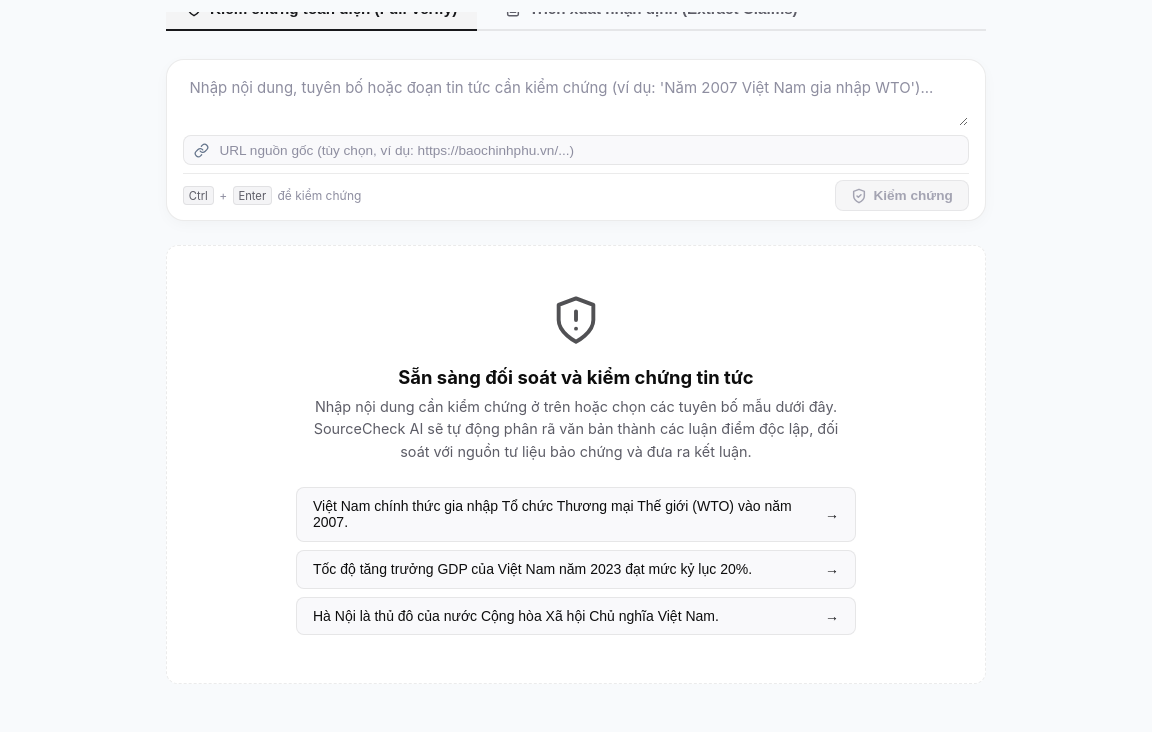
Test: Fact-Checking Feature (FE-04.1) › 3. Successful Verification Result Rendering › renders overall verdict, summary, metadata, and verified claims with evidence
(page scrolled)
Replace the text in the text box with test id "factcheck-textarea" with "Test verify" at point(576, 100), box [183,72,969,127]
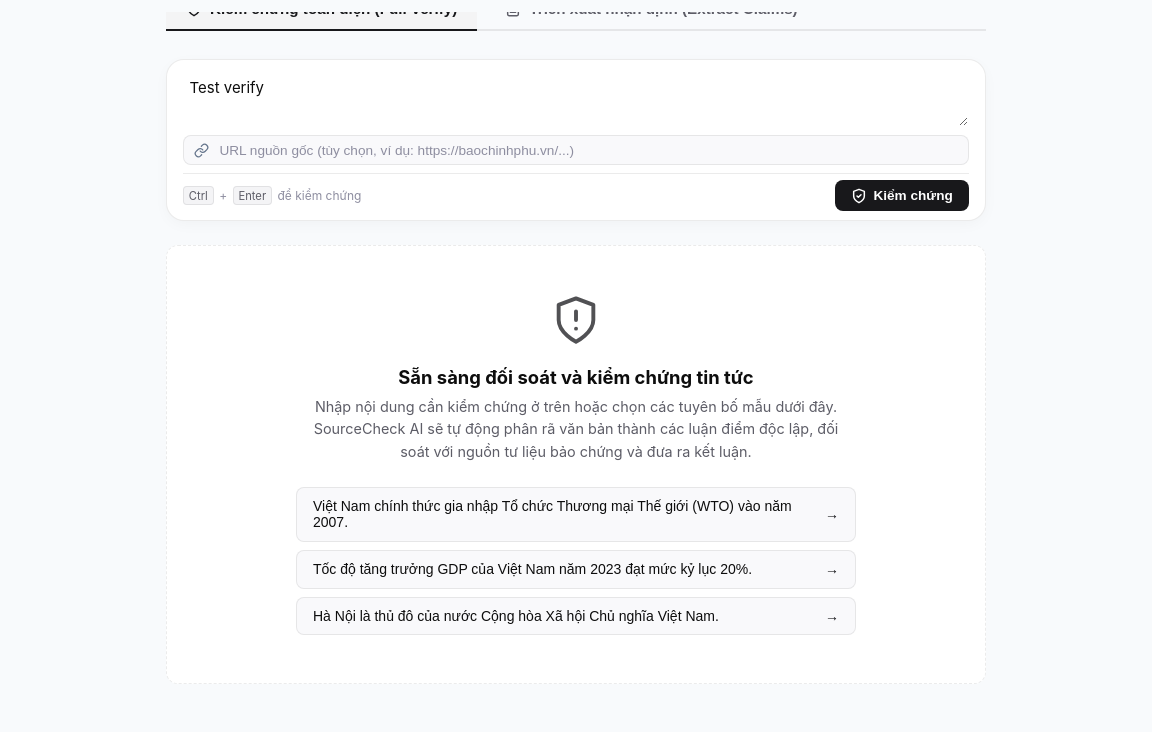
Click the button with test id "btn-verify".
click(902, 196)  # box [835,180,969,211]
(page scrolled)
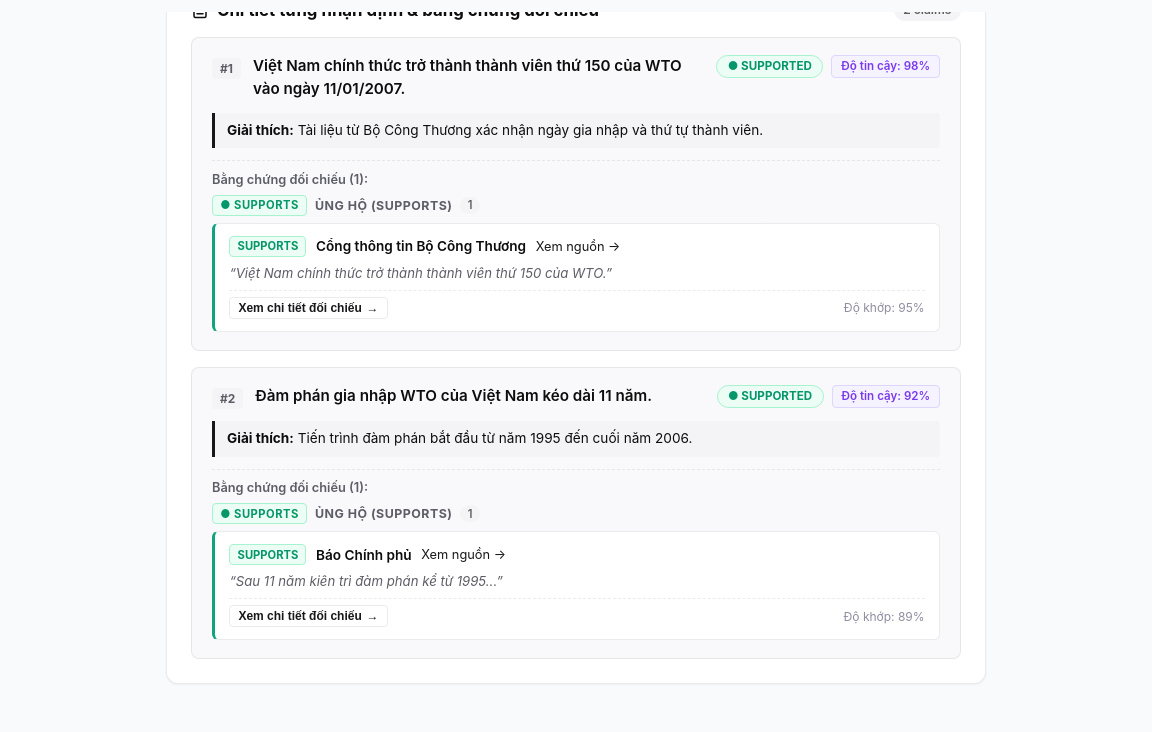
Expected: the text with test id "claim-text-claim-001" shows "Việt Nam chính thức trở thành thành viên thứ 150", [253,56,682,98]
Expected: the text with test id "claim-verdict-claim-001" shows "SUPPORTED", [741,59,812,73]
Expected: the text with test id "claim-confidence-claim-001" shows "98%", [831,55,940,78]
